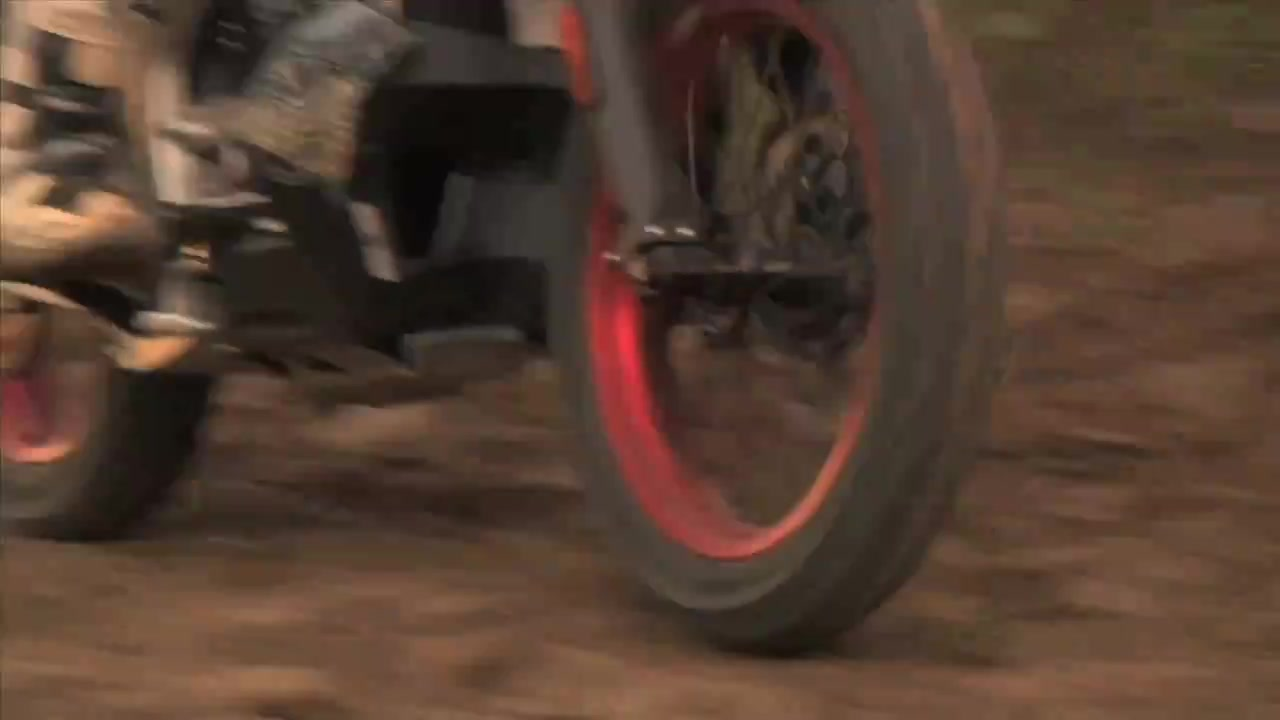motorbike: (1, 1, 1011, 655)
